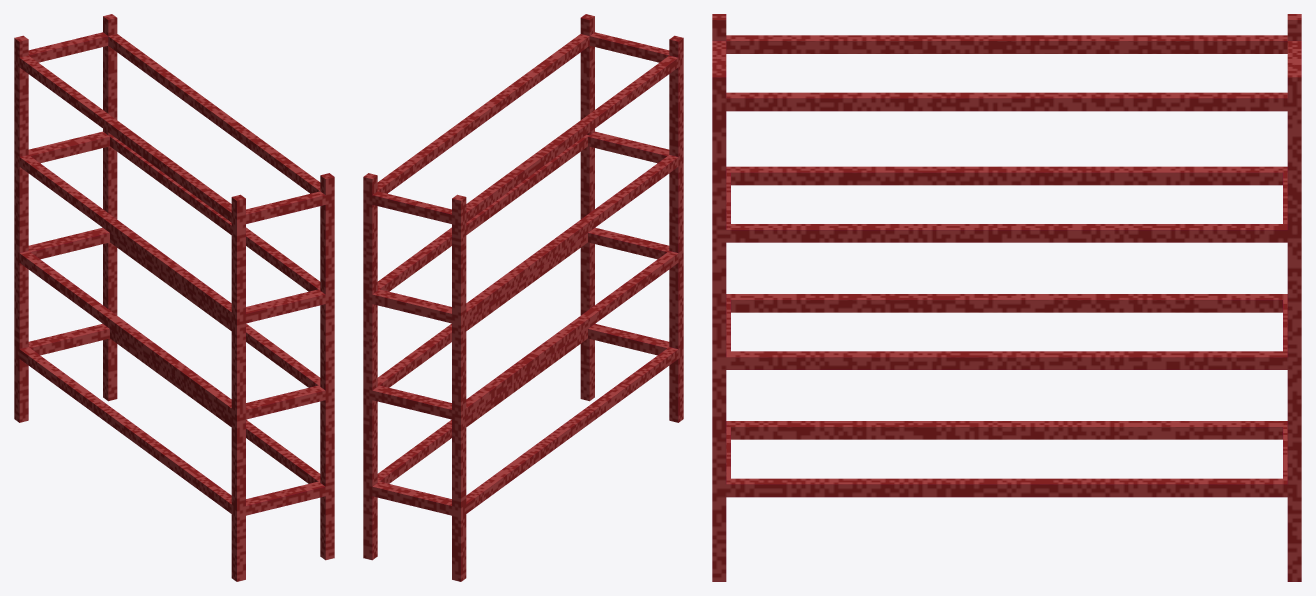
The model's file is Escenario 3 chocorramosurvivor-10.obj.
The picture shows the model from 3 angles, left to right: view 1: azimuth 30°, elevation 25°; view 2: azimuth 150°, elevation 25°; view 3: azimuth 270°, elevation 25°; orthographic projection. The views are drawn at different scales.
Visible parts, largest first — view 1: Escenario_3_chocorramosurvivor-10; view 2: Escenario_3_chocorramosurvivor-10; view 3: Escenario_3_chocorramosurvivor-10.
Part boxes in pixels (left/top/right/bottom): Escenario_3_chocorramosurvivor-10: left=14, top=14, right=334, bottom=581; Escenario_3_chocorramosurvivor-10: left=363, top=14, right=683, bottom=581; Escenario_3_chocorramosurvivor-10: left=712, top=14, right=1301, bottom=581.
Bounding box in the file's own units: 3.2 × 11.9 × 12.6.
1 material, 1 textured.
